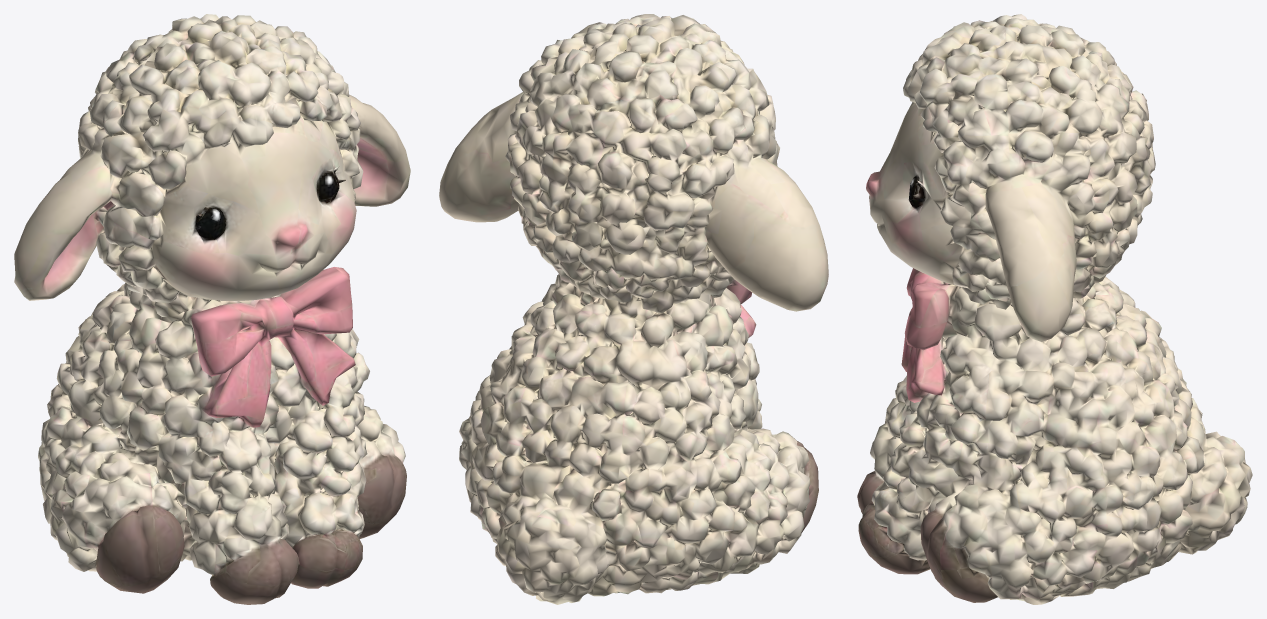
The picture shows the model from 3 angles, left to right: view 1: azimuth 30°, elevation 25°; view 2: azimuth 150°, elevation 25°; view 3: azimuth 270°, elevation 25°; orthographic projection. The views are drawn at different scales.
Size of the model in its own units: 1.5 by 1.9 by 1.33.
1 material, 1 textured.
